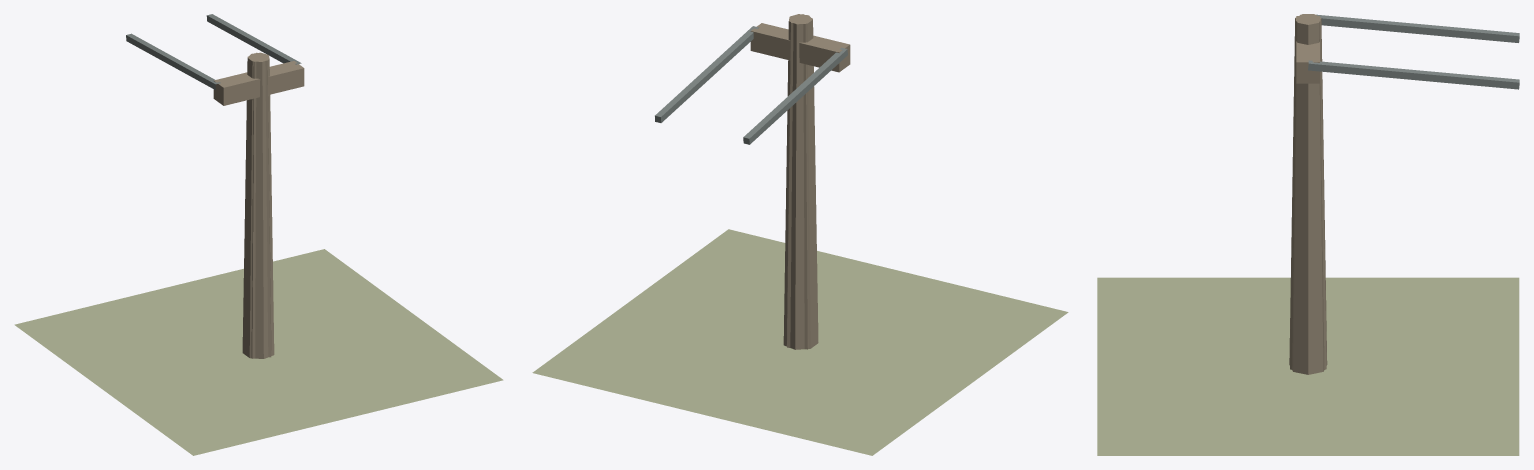
3 views of the same model, side by side, from view 1: azimuth 30°, elevation 25°; view 2: azimuth 150°, elevation 25°; view 3: azimuth 270°, elevation 25° (orthographic). The views are drawn at different scales.
Parts seen in each view (by area): view 1: Near, Far; view 2: Near, Far; view 3: Near, Far.
Part boxes in pixels (box(x1,y1,x2,y2)): Near: box(14, 14, 503, 455); Far: box(248, 52, 271, 358); Near: box(532, 14, 1068, 455); Far: box(786, 14, 812, 349); Near: box(1097, 14, 1519, 455); Far: box(1290, 14, 1326, 369).
Bounding box in the file's own units: 1 × 0.91 × 1.
